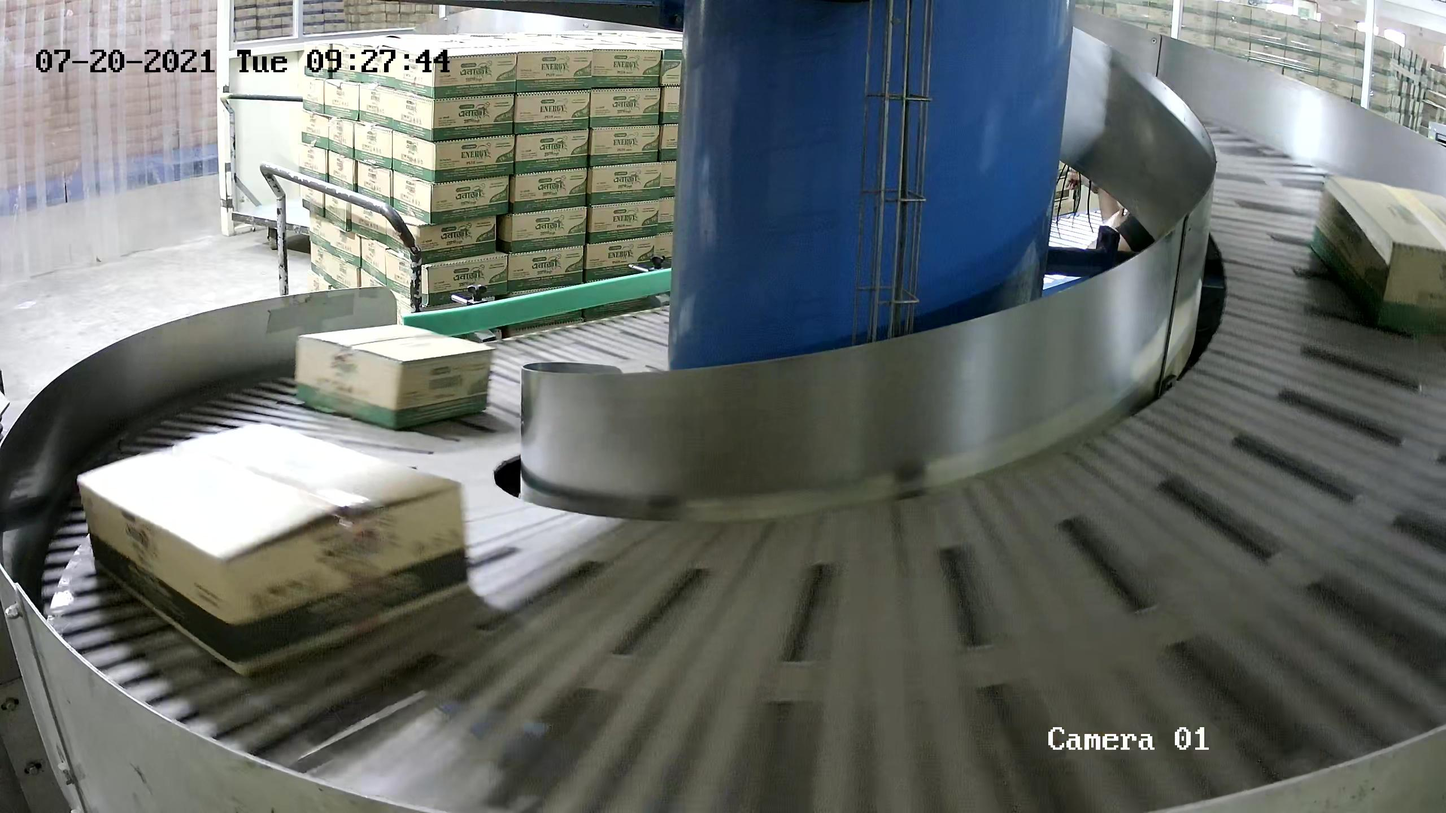Box: (75, 420, 472, 679), (1309, 174, 1446, 343), (294, 323, 495, 433)
